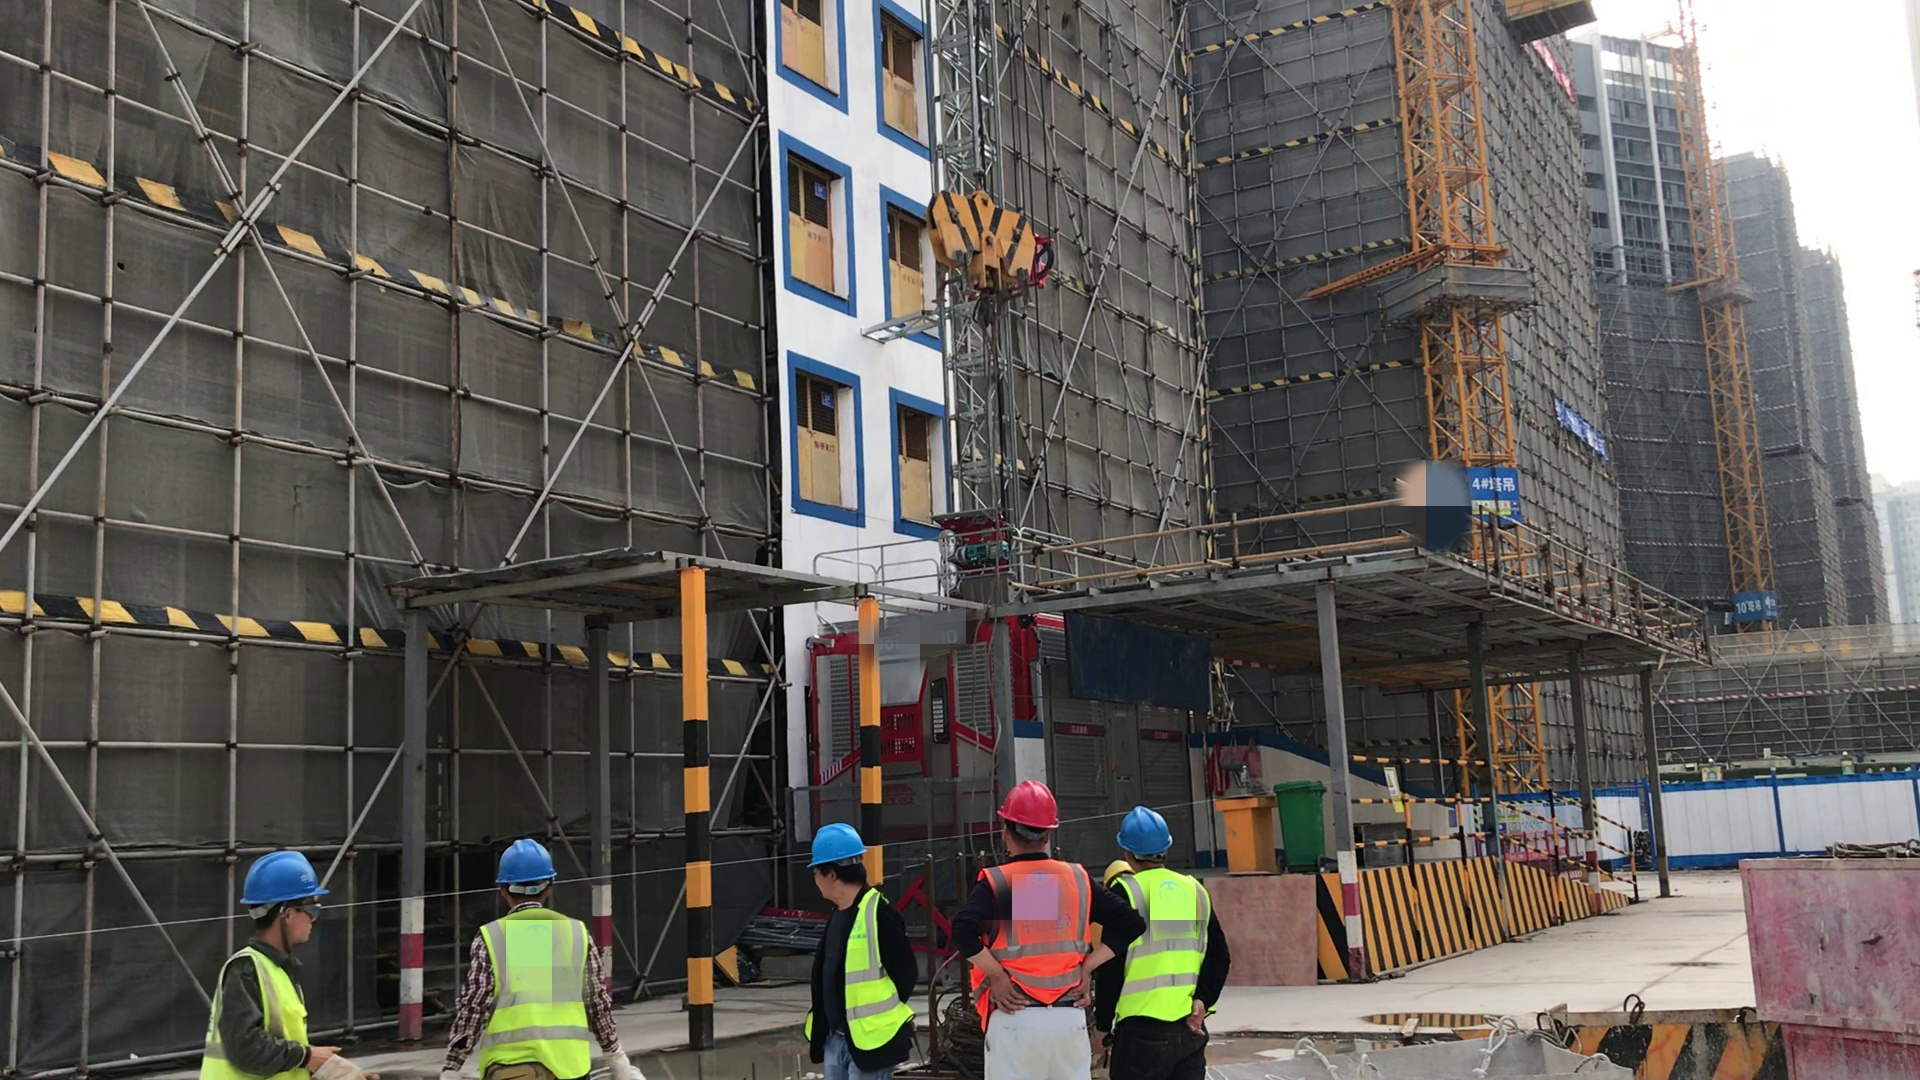fence: (1317, 728, 1658, 885)
helmet: (235, 843, 341, 901), (997, 769, 1067, 850), (484, 827, 563, 891), (1105, 799, 1178, 866), (808, 819, 872, 871), (1089, 851, 1136, 886)
hook: (911, 173, 1049, 314)
hopper: (1545, 999, 1797, 1073)
person: (450, 826, 651, 1080), (198, 843, 366, 1080), (974, 786, 1106, 1073), (1106, 802, 1239, 1080), (799, 818, 926, 1080)
slogan: (1538, 388, 1637, 479)
vest: (193, 941, 370, 1080), (464, 905, 599, 1080), (978, 857, 1099, 1021), (801, 894, 914, 1064), (1118, 869, 1221, 1043)
